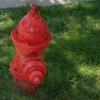a fire hydrant: (11, 6, 50, 92)
